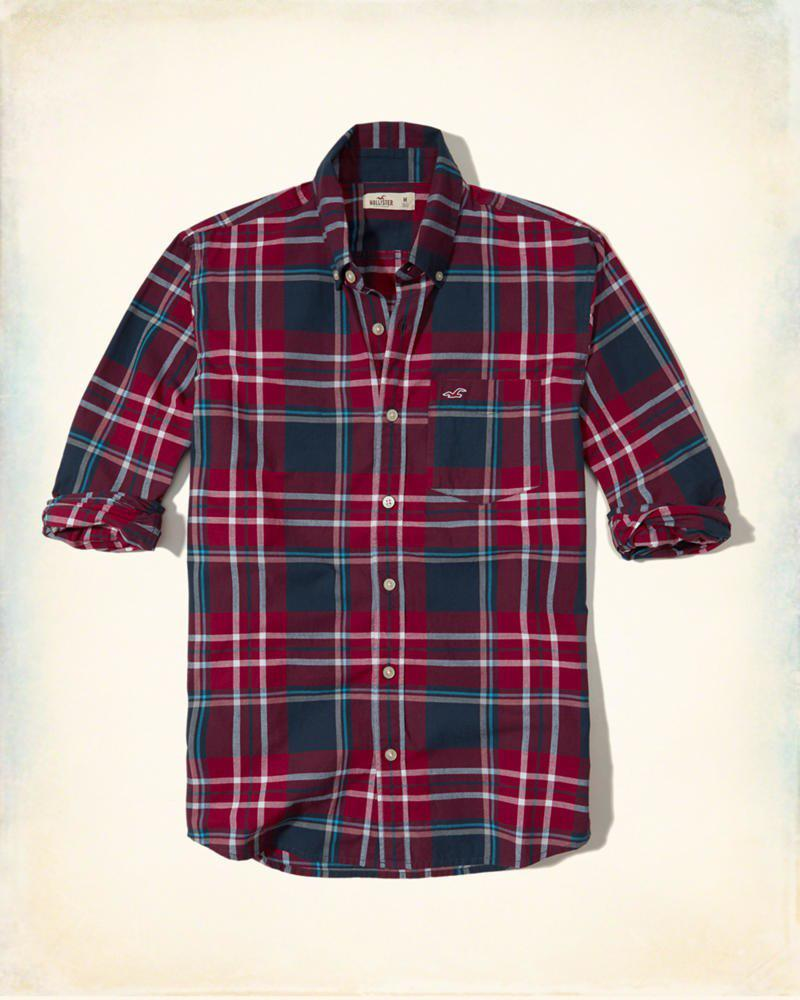teeshirt: (33, 118, 741, 901)
